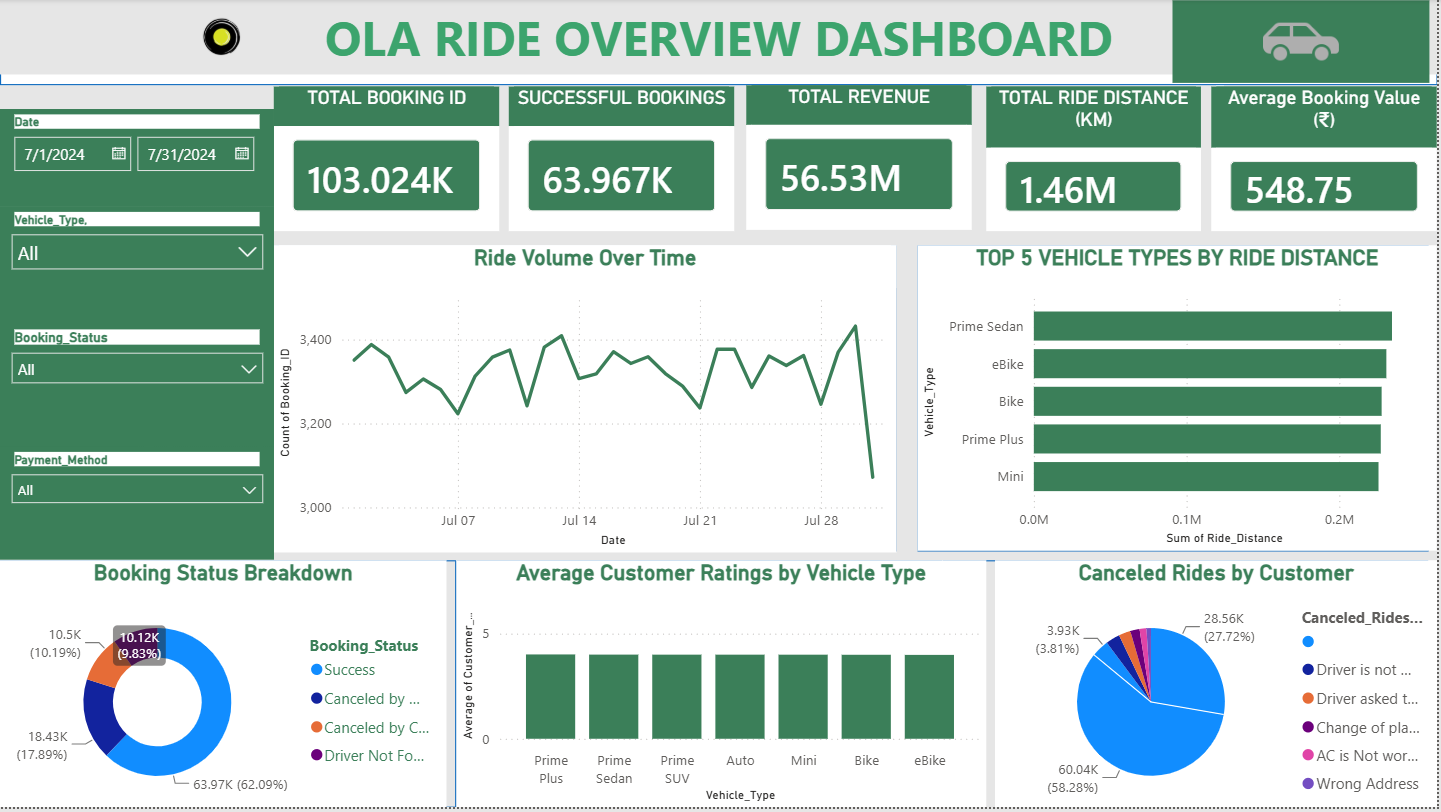

The dashboard page shown, as its layout file describes it:
{"tool":"powerbi","page":{"name":"DASHBOARD-1","canvas":[1280,720],"ordinal":0},"visuals":[{"type":"shape","box":[0,0,1280.2,76.7],"z":0},{"type":"textbox","box":[0,0,1280.2,67.4],"z":1000},{"type":"cardVisual","title":"TOTAL BOOKING ID","fields":{"Data":["Count(ola_cleaned_data.Booking_ID)"]},"box":[244.2,77.9,201.2,129.1],"z":2000},{"type":"cardVisual","title":"SUCCESSFUL BOOKINGS","fields":{"Data":["Count(ola_cleaned_data.Booking_ID)"]},"box":[453.5,77.9,201.2,129.1],"z":3000},{"type":"cardVisual","title":"TOTAL REVENUE","fields":{"Data":["Sum(ola_cleaned_data.Booking_Value)"]},"box":[665.1,76.7,201.2,129.1],"z":4000},{"type":"cardVisual","title":"TOTAL RIDE DISTANCE (KM)","fields":{"Data":["Sum(ola_cleaned_data.Ride_Distance)"]},"box":[878.3,77.9,191.5,129.1],"z":5000},{"type":"cardVisual","title":"Average Booking Value (₹)","fields":{"Data":["Avg(ola_cleaned_data.Booking_Value)"]},"box":[1079.1,77.9,201.2,129.1],"z":6000},{"type":"shape","box":[243.8,219.3,554.4,272.7],"z":7000},{"type":"shape","box":[0,499.8,406.3,220.4],"z":8000},{"type":"shape","box":[406.3,499.8,432.6,220.9],"z":9000},{"type":"shape","box":[839.3,499.8,432.6,220.9],"z":10000},{"type":"shape","box":[817.1,219.3,455.3,272.7],"z":11000},{"type":"lineChart","title":"Ride Volume Over Time","fields":{"Category":["ola_cleaned_data.Date"],"Y":["CountNonNull(ola_cleaned_data.Booking_ID)"]},"box":[244.2,219.8,554.7,273.3],"z":12000},{"type":"donutChart","title":"Booking Status Breakdown","fields":{"Category":["ola_cleaned_data.Booking_Status"],"Y":["Count(ola_cleaned_data.Booking_ID)"]},"box":[0,500,397.7,219.8],"z":13000},{"type":"clusteredBarChart","title":"TOP 5 VEHICLE TYPES BY RIDE DISTANCE","fields":{"Category":["ola_cleaned_data.Vehicle_Type"],"Y":["Sum(ola_cleaned_data.Ride_Distance)"]},"box":[817.4,219.8,462.8,272.1],"z":14000},{"type":"clusteredColumnChart","title":"Average Customer Ratings by Vehicle Type","fields":{"Category":["ola_cleaned_data.Vehicle_Type"],"Y":["Avg(ola_cleaned_data.Customer_Rating)"]},"box":[405.8,500,472.1,219.8],"z":15000},{"type":"pieChart","title":"Canceled Rides by Customer","fields":{"Series":["ola_cleaned_data.Incomplete_Rides"],"Y":["Count(ola_cleaned_data.Booking_ID)"],"Category":["ola_cleaned_data.Canceled_Rides_by_Customer"]},"box":[886,500,394.2,219.8],"z":16000},{"type":"slicer","fields":{"Values":["ola_cleaned_data.Date"]},"box":[0,97.7,244.2,87.2],"z":17000},{"type":"slicer","fields":{"Values":["ola_cleaned_data.Booking_Status"]},"box":[0,289.5,244.2,109.3],"z":18000},{"type":"slicer","fields":{"Values":["ola_cleaned_data.Payment_Method"]},"box":[0,398.8,244.2,101.2],"z":19000},{"type":"slicer","fields":{"Values":["ola_cleaned_data.Vehicle_Type","ola_cleaned_data.Date"]},"box":[0,184.9,244.2,104.7],"z":20000},{"type":"image","box":[159.3,0,76.7,67.4],"z":21000},{"type":"image","box":[1044.2,1.2,229.1,73.3],"z":22000}]}

Visuals, with their boxes in screenshot pixels (x1, y1, x2, y2), scaled from the page's 1280x720 canvas onto the 1441x812 screenshot:
shape: select_region(0, 0, 1440, 87)
textbox: select_region(0, 0, 1440, 76)
"TOTAL BOOKING ID" cardVisual: select_region(275, 88, 501, 233)
"SUCCESSFUL BOOKINGS" cardVisual: select_region(511, 88, 737, 233)
"TOTAL REVENUE" cardVisual: select_region(749, 87, 975, 232)
"TOTAL RIDE DISTANCE (KM)" cardVisual: select_region(989, 88, 1204, 233)
"Average Booking Value (₹)" cardVisual: select_region(1215, 88, 1440, 233)
shape: select_region(274, 247, 899, 555)
shape: select_region(0, 564, 457, 811)
shape: select_region(457, 564, 944, 811)
shape: select_region(945, 564, 1432, 811)
shape: select_region(920, 247, 1432, 555)
"Ride Volume Over Time" lineChart: select_region(275, 248, 899, 556)
"Booking Status Breakdown" donutChart: select_region(0, 564, 448, 811)
"TOP 5 VEHICLE TYPES BY RIDE DISTANCE" clusteredBarChart: select_region(920, 248, 1440, 555)
"Average Customer Ratings by Vehicle Type" clusteredColumnChart: select_region(457, 564, 988, 811)
"Canceled Rides by Customer" pieChart: select_region(997, 564, 1440, 811)
slicer - ola_cleaned_data.Date: select_region(0, 110, 275, 209)
slicer - ola_cleaned_data.Booking_Status: select_region(0, 326, 275, 450)
slicer - ola_cleaned_data.Payment_Method: select_region(0, 450, 275, 564)
slicer - ola_cleaned_data.Vehicle_Type x ola_cleaned_data.Date: select_region(0, 209, 275, 327)
image: select_region(179, 0, 266, 76)
image: select_region(1176, 1, 1433, 84)
